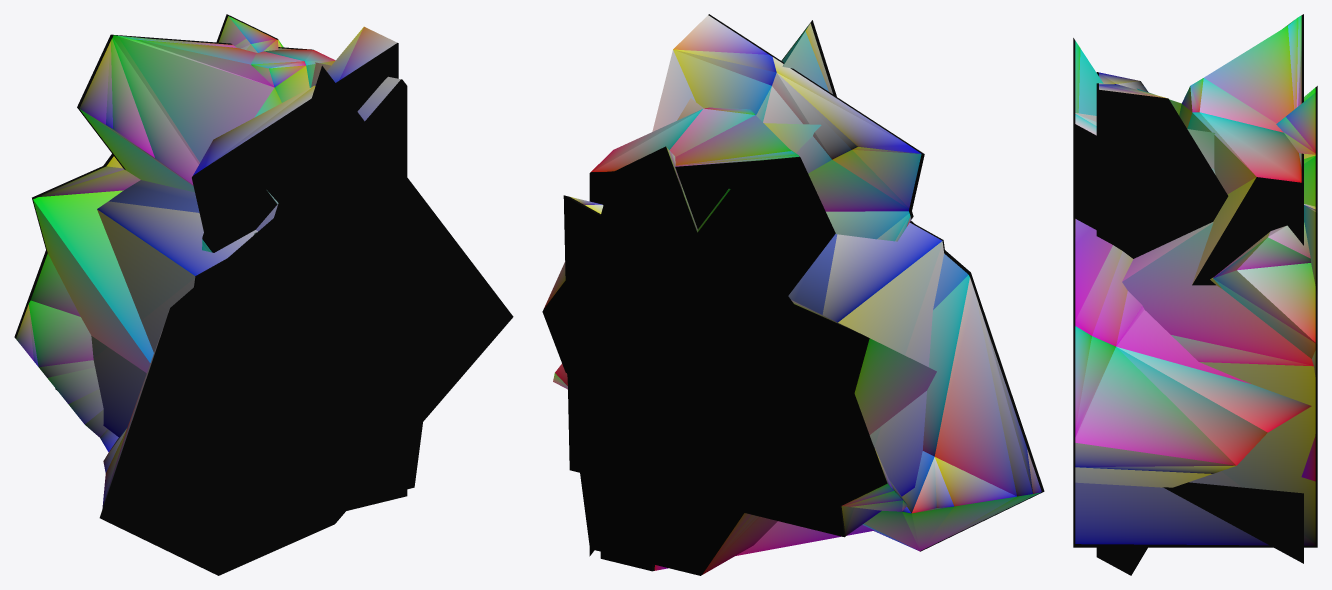
3 views of the same model, side by side, from view 1: azimuth 30°, elevation 25°; view 2: azimuth 150°, elevation 25°; view 3: azimuth 270°, elevation 25° (orthographic). The views are drawn at different scales.
Parts seen in each view (by area): view 1: Cube2; view 2: Cube2; view 3: Cube2.
Part boxes in pixels (x1,y1,x2,y2): Cube2: (14,14,513,575); Cube2: (542,14,1044,575); Cube2: (1073,14,1317,575).
Size of the model in its own units: 109 by 122 by 53.91.
